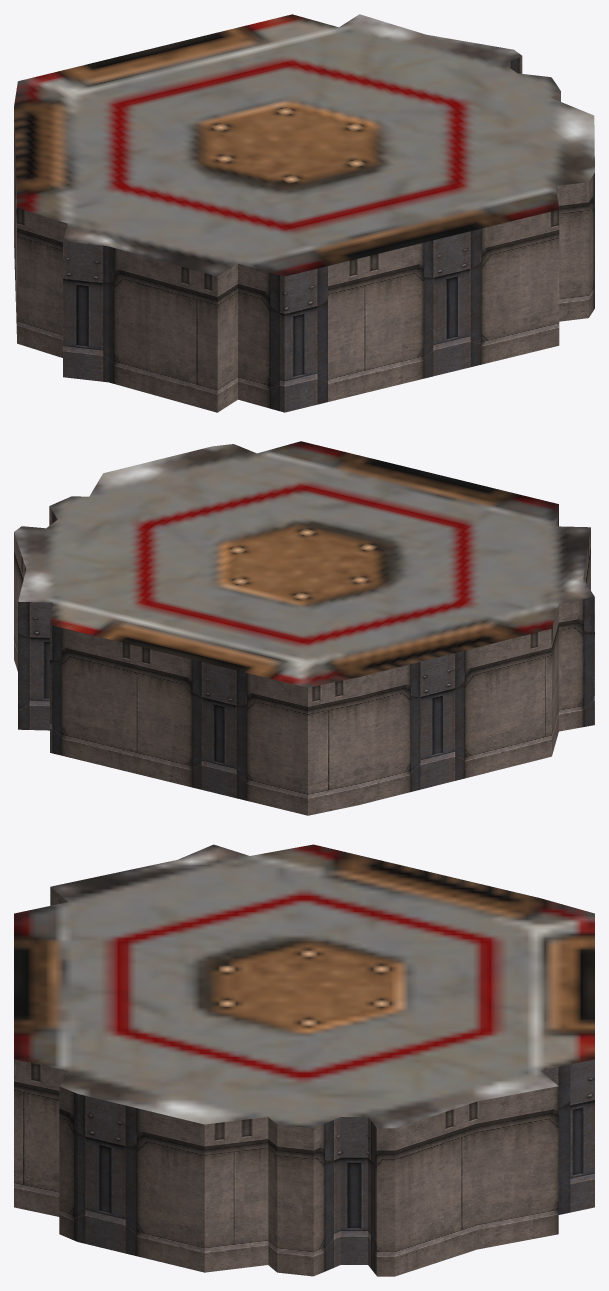
File: bsealed_light_a_22.glb
3 renders of one model, top to bottom at view 1: azimuth 30°, elevation 25°; view 2: azimuth 150°, elevation 25°; view 3: azimuth 270°, elevation 25°, orthographic. The views are drawn at different scales.
Visible parts, largest first — view 1: buildings/saxarba/bsealed_light/bsealed_light_a_22; view 2: buildings/saxarba/bsealed_light/bsealed_light_a_22; view 3: buildings/saxarba/bsealed_light/bsealed_light_a_22.
Boxes of the visible parts, bbox=[...] form: buildings/saxarba/bsealed_light/bsealed_light_a_22: bbox=[14, 14, 594, 412]; buildings/saxarba/bsealed_light/bsealed_light_a_22: bbox=[14, 441, 594, 815]; buildings/saxarba/bsealed_light/bsealed_light_a_22: bbox=[14, 844, 594, 1276].
Size of the model in its own units: 74 by 18 by 64.
